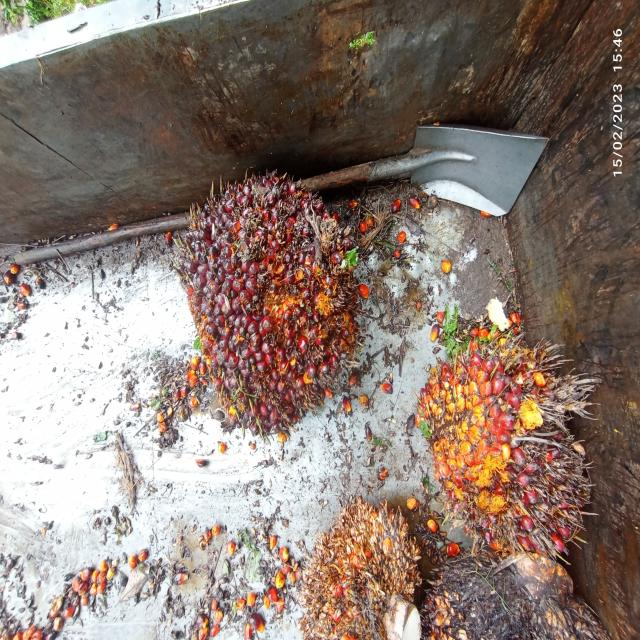fraksi 1: (143, 144, 384, 439)
fraksi 3: (401, 260, 598, 582)
fraksi 4: (283, 459, 439, 640)
